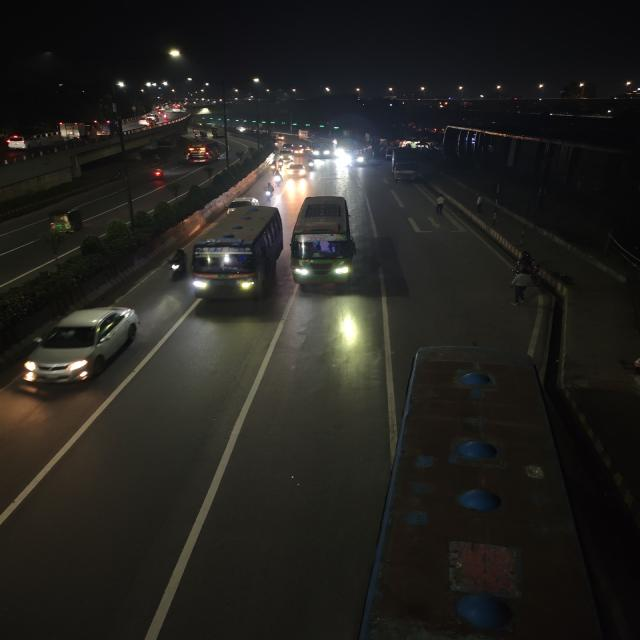bus: (375, 342, 629, 640), (186, 203, 285, 306), (289, 192, 358, 292), (184, 140, 222, 166), (303, 132, 335, 160), (345, 140, 373, 166)
car: (16, 304, 146, 393), (2, 133, 54, 151), (285, 162, 308, 178), (139, 118, 151, 126)
cng: (44, 206, 85, 238)
motorcycle: (162, 248, 188, 284), (148, 165, 167, 181), (262, 182, 276, 202), (272, 170, 283, 184)
pedestrian: (506, 268, 537, 306), (432, 194, 448, 215)
truck: (387, 148, 422, 186), (184, 139, 223, 165), (59, 121, 85, 140)
